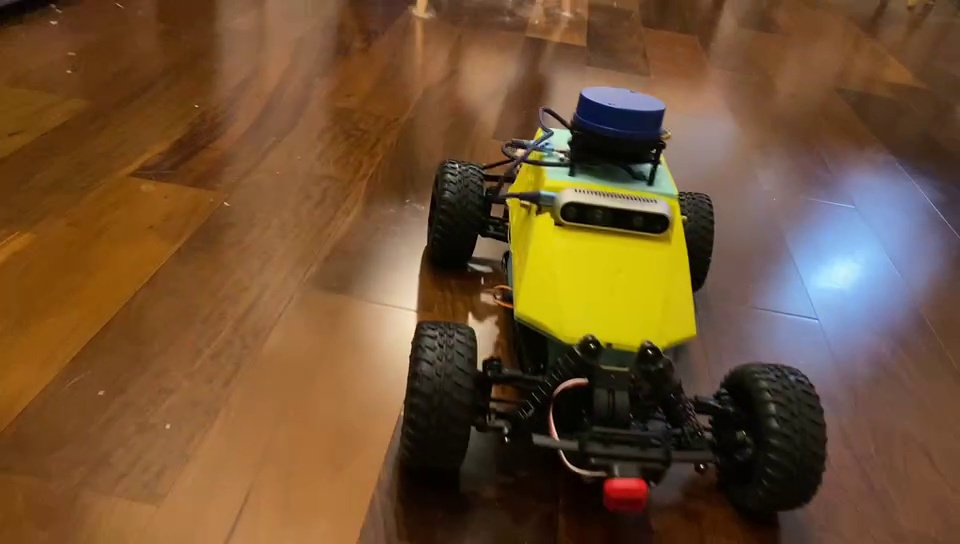mushr_car: (398, 83, 830, 520)
